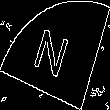N_S: (33, 24, 77, 86)
